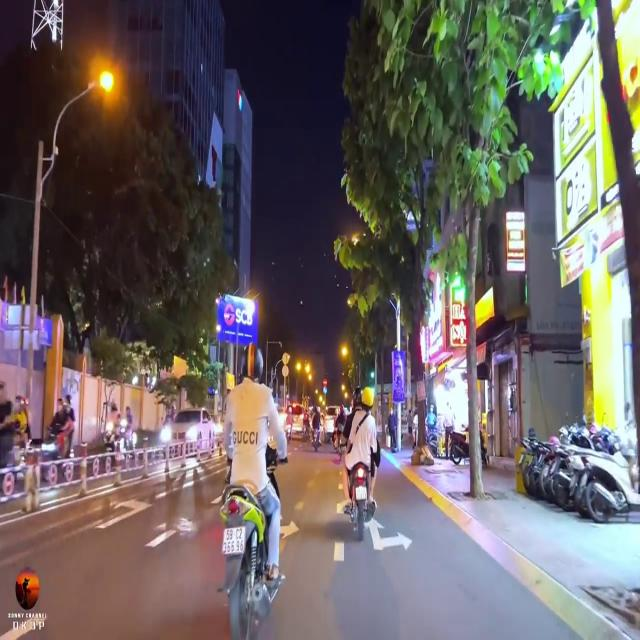bien_trang: (222, 524, 244, 556)
